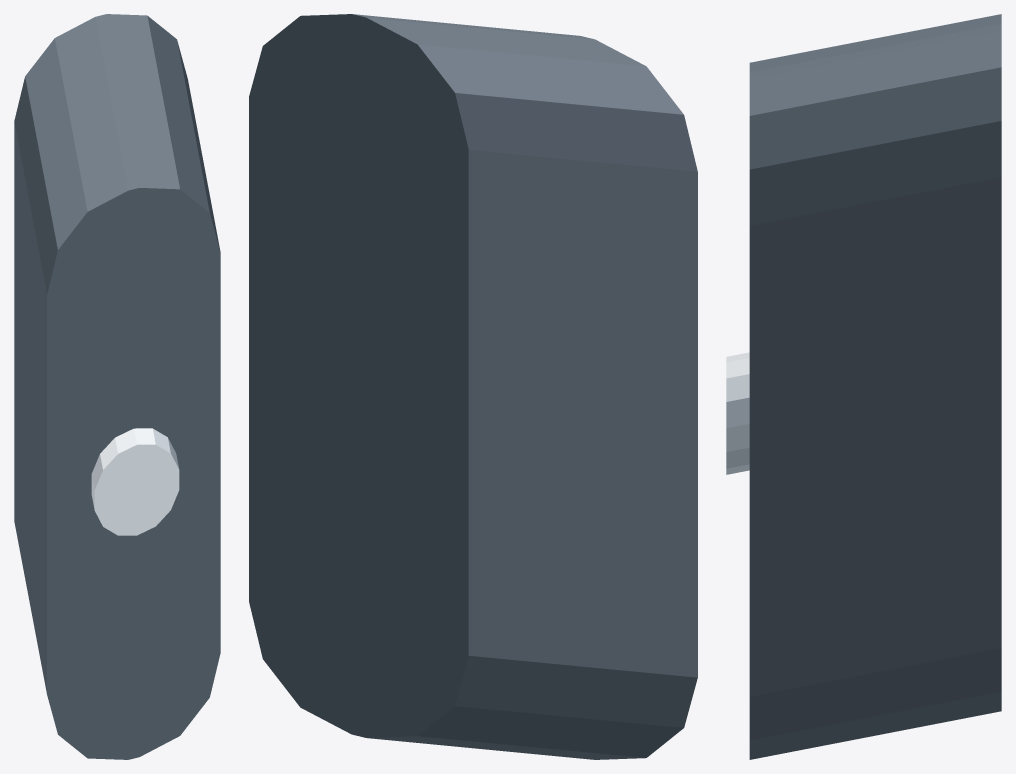
File: Edge_Shutter.gltf
The picture shows the model from 3 angles, left to right: view 1: azimuth 30°, elevation 25°; view 2: azimuth 150°, elevation 25°; view 3: azimuth 270°, elevation 25°; orthographic projection. The views are drawn at different scales.
Visible parts, largest first — view 1: Edge_Shutter_baked; view 2: Edge_Shutter_baked; view 3: Edge_Shutter_baked.
Boxes of the visible parts, x1,y1,x2,y2 form: Edge_Shutter_baked: (14, 14, 220, 759); Edge_Shutter_baked: (249, 14, 697, 759); Edge_Shutter_baked: (726, 14, 1001, 759).
Size of the model in its own units: 0.428 by 1.07 by 0.35.
